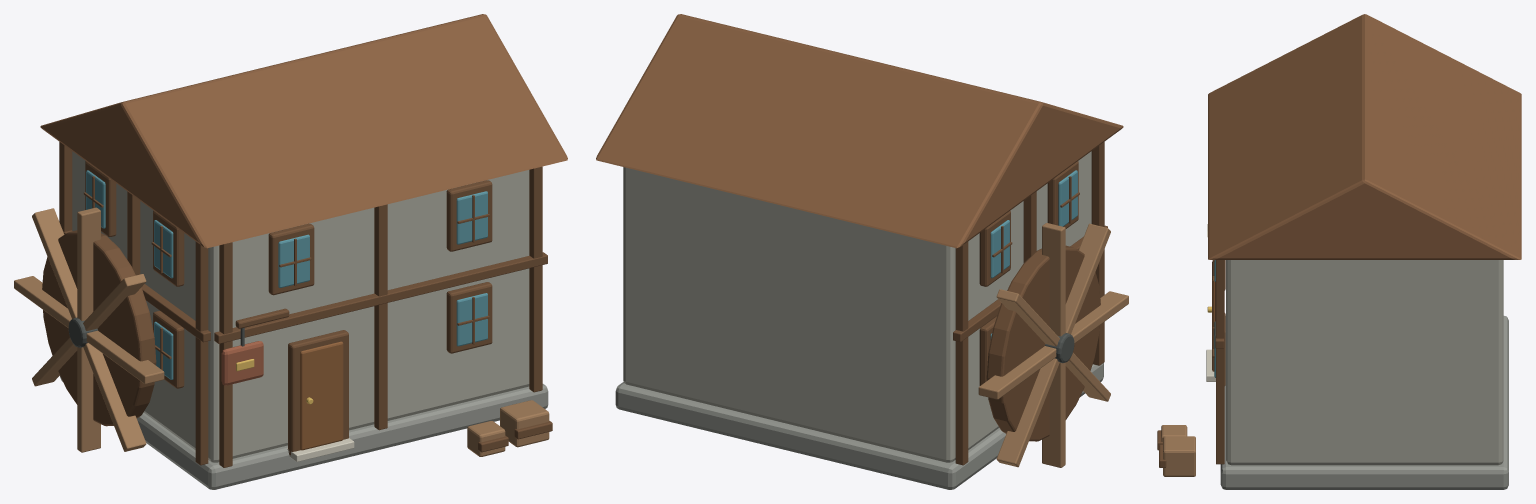
Rendered from temperate-mill-0.glb.
3 renders of one model, left to right at view 1: azimuth 30°, elevation 25°; view 2: azimuth 150°, elevation 25°; view 3: azimuth 270°, elevation 25°, orthographic. The views are drawn at different scales.
Visible parts, largest first — view 1: Wood shingles, Fieldstone, Dark beams, Aged oak, Foundation stone, Blue glass, Door oak, Painted sign, Cut limestone; view 2: Fieldstone, Wood shingles, Dark beams, Aged oak, Foundation stone, Blue glass; view 3: Wood shingles, Fieldstone, Foundation stone, Dark beams, Aged oak.
Boxes of the visible parts, left/top/right/bottom form: Wood shingles: left=40, top=14, right=567, bottom=248; Fieldstone: left=72, top=151, right=529, bottom=462; Dark beams: left=42, top=142, right=552, bottom=467; Aged oak: left=14, top=207, right=549, bottom=456; Foundation stone: left=60, top=376, right=548, bottom=489; Blue glass: left=86, top=170, right=487, bottom=379; Door oak: left=300, top=341, right=343, bottom=450; Painted sign: left=221, top=341, right=263, bottom=385; Cut limestone: left=287, top=438, right=354, bottom=461; Fieldstone: left=623, top=151, right=1091, bottom=462; Wood shingles: left=596, top=14, right=1123, bottom=248; Dark beams: left=953, top=142, right=1107, bottom=465; Aged oak: left=978, top=223, right=1128, bottom=467; Foundation stone: left=615, top=363, right=1103, bottom=489; Blue glass: left=990, top=170, right=1077, bottom=339; Wood shingles: left=1208, top=14, right=1521, bottom=259; Fieldstone: left=1226, top=260, right=1503, bottom=465; Foundation stone: left=1220, top=316, right=1508, bottom=489; Dark beams: left=1157, top=260, right=1225, bottom=467; Aged oak: left=1161, top=425, right=1195, bottom=476.
Size of the model in its own units: 4.87 by 4.04 by 4.07.
